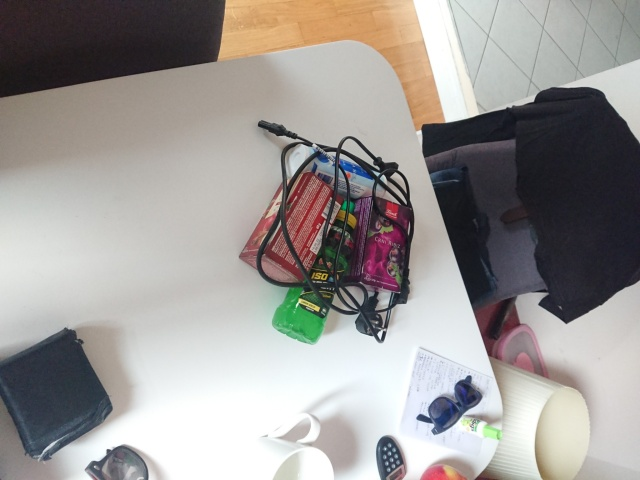Franck Apple Cinnamon Tea 60g: (235, 169, 347, 286)
Franck Black Currant Tea 60g: (341, 192, 415, 296)
Solana Pag Fine Sea Salt 250g: (284, 143, 389, 200)
Vindi Iso Sport Lemon-Grapefruit 500mL: (269, 197, 360, 347)
